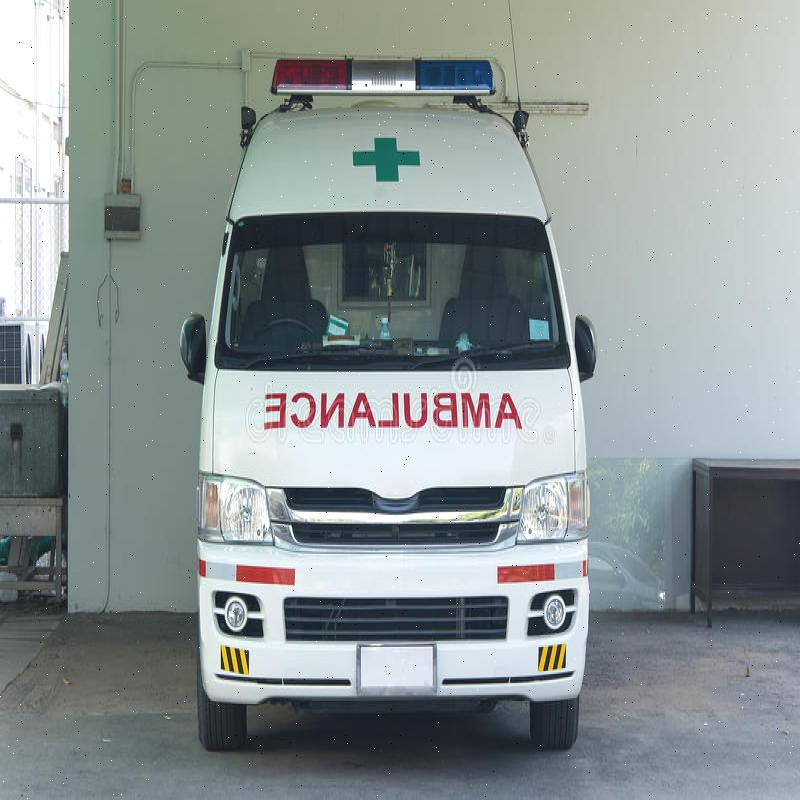ambulance: (146, 43, 609, 746)
